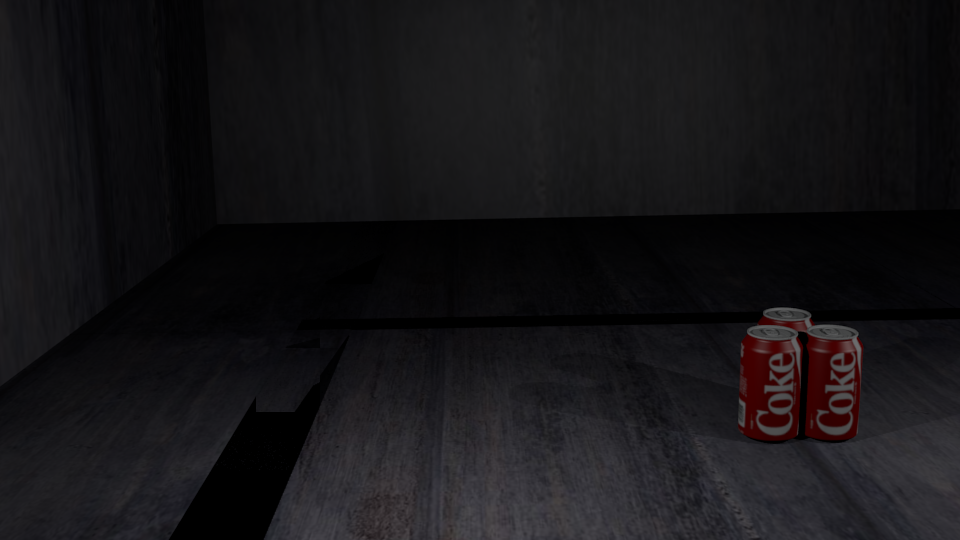cola_can: (740, 325, 802, 438), (800, 325, 862, 436), (759, 308, 815, 414)
